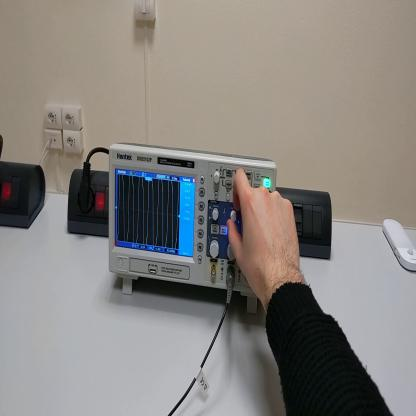hand: (229, 170, 302, 298)
oscilloscope: (109, 143, 278, 317)
socket: (2, 160, 47, 232), (68, 170, 109, 239)
